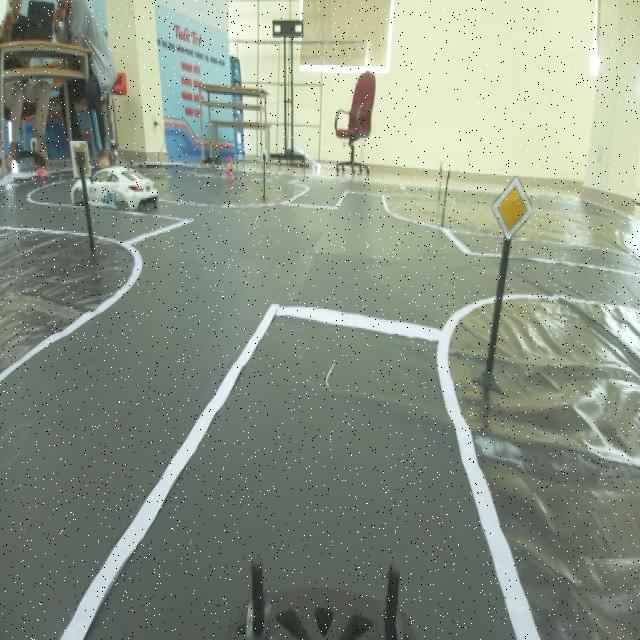priority: (487, 180, 546, 232)
